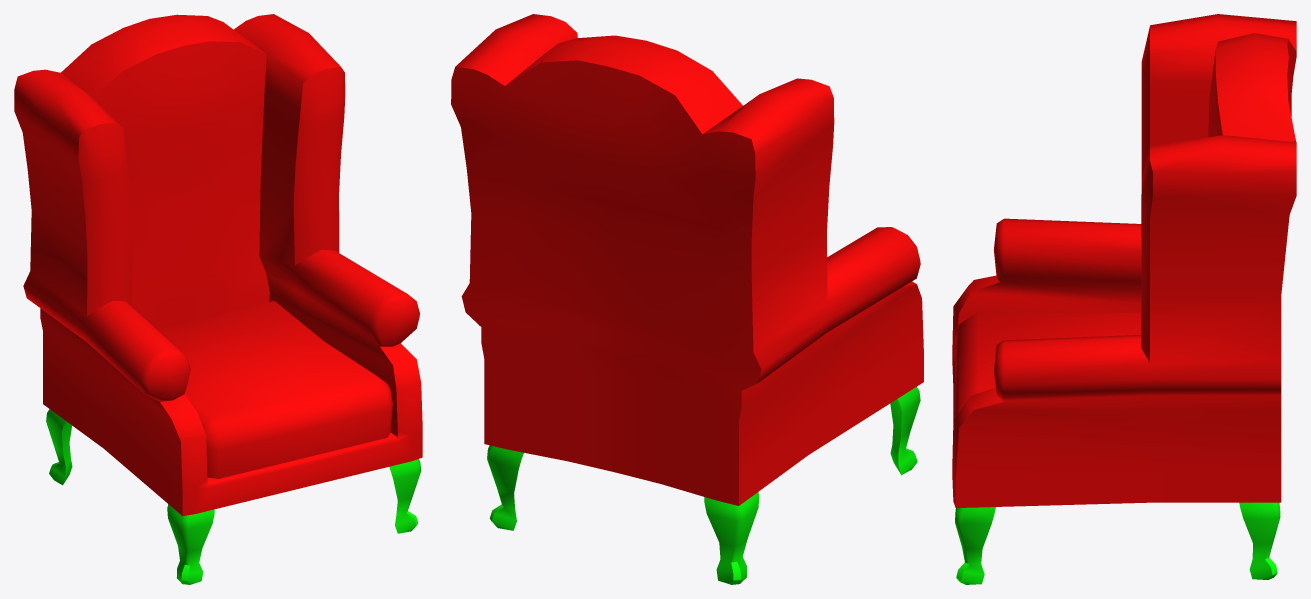
File: sillon_low.fbx
3 renders of one model, left to right at view 1: azimuth 30°, elevation 25°; view 2: azimuth 150°, elevation 25°; view 3: azimuth 270°, elevation 25°, orthographic. The views are drawn at different scales.
Visible parts, largest first — view 1: sillon_low; view 2: sillon_low; view 3: sillon_low.
Part boxes in pixels (x1,y1,x2,y2): sillon_low: (14,14,422,584); sillon_low: (451,14,923,584); sillon_low: (952,14,1296,584).
Bounding box in the file's own units: 106 × 157 × 104.
